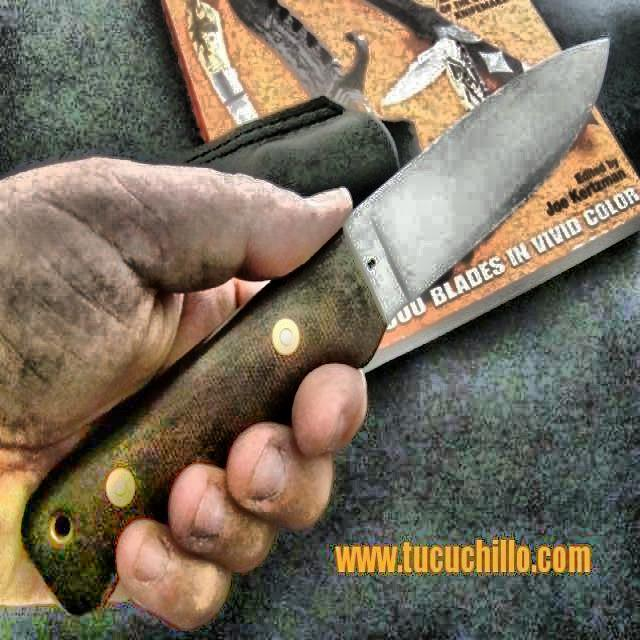knife: (21, 37, 608, 610)
